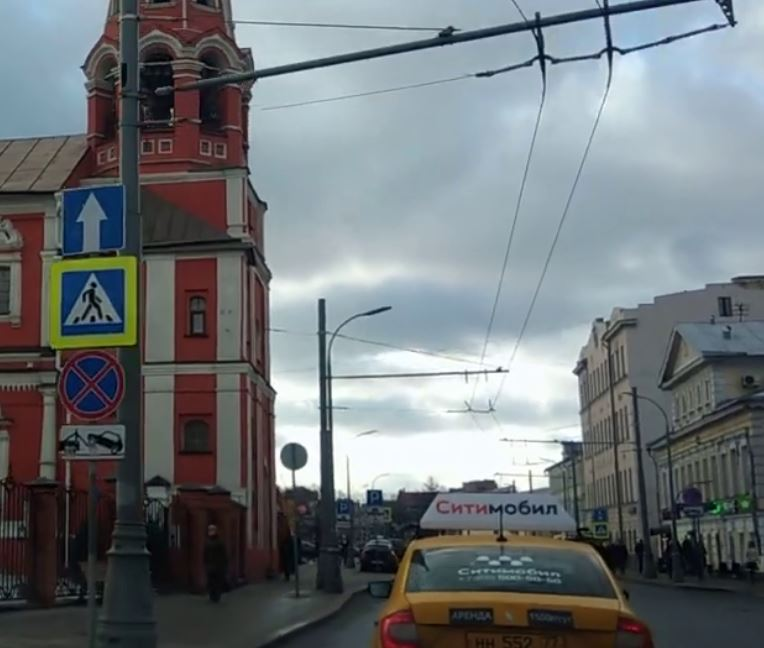Yaya Gecidi: (59, 269, 124, 333)
